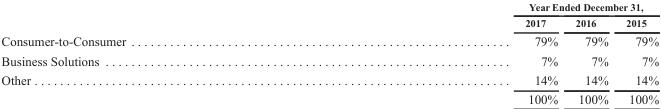table: (0, 0, 658, 106)
table column: (0, 0, 324, 106), (324, 0, 566, 106), (566, 0, 616, 106), (616, 0, 658, 106)
table column header: (0, 0, 658, 31)
table row: (0, 50, 658, 70), (0, 31, 658, 50), (0, 70, 658, 89), (0, 14, 658, 31), (0, 89, 658, 106), (0, 0, 658, 14)
table spanning cell: (324, 0, 658, 14)
